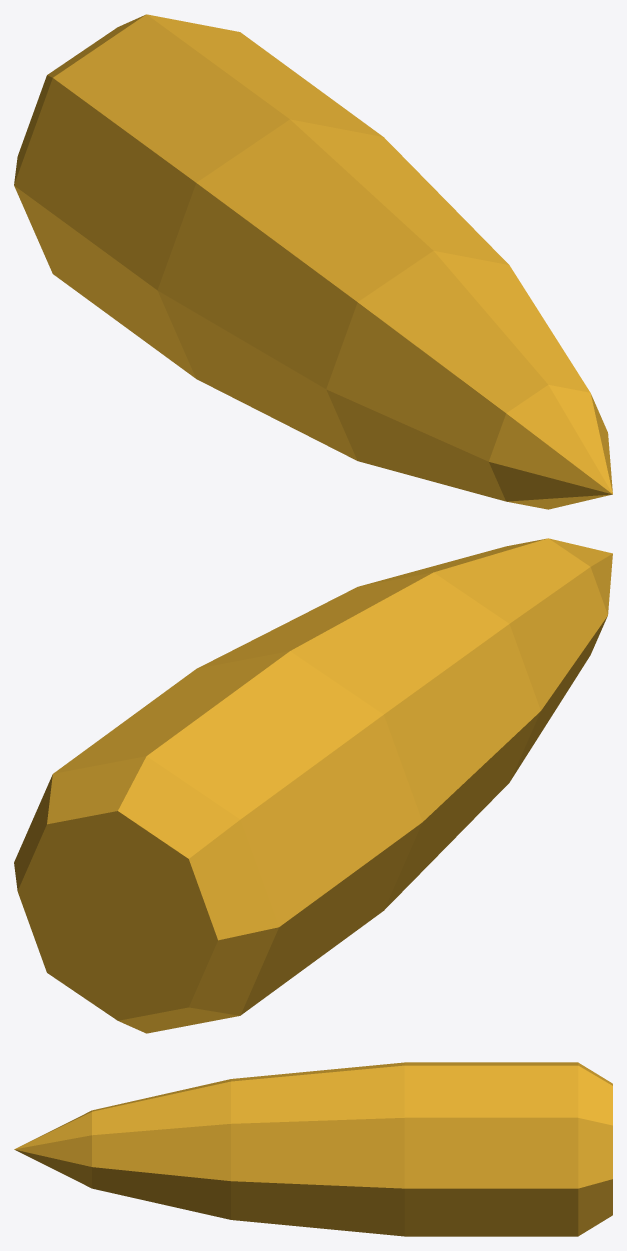
Rendered from MinigunBullet.fbx.
3 renders of one model, top to bottom at view 1: azimuth 30°, elevation 25°; view 2: azimuth 150°, elevation 25°; view 3: azimuth 270°, elevation 25°, orthographic. The views are drawn at different scales.
Visible parts, largest first — view 1: Bullet; view 2: Bullet; view 3: Bullet.
Part boxes in pixels (left/top/right/bottom): Bullet: left=14, top=14, right=612, bottom=509; Bullet: left=14, top=538, right=612, bottom=1033; Bullet: left=14, top=1062, right=612, bottom=1236.
Size of the model in its own units: 64 by 64 by 207.
